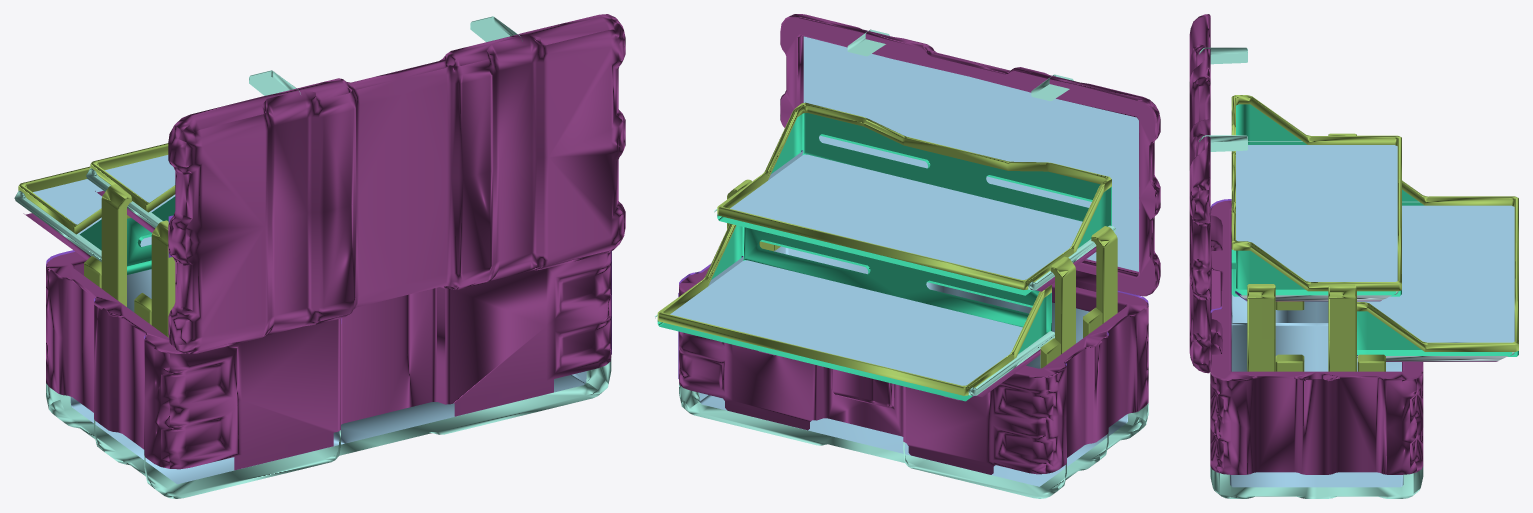
Rendered from box_plastic_4_weapon_050x100x0375_a.glb.
3 views of the same model, side by side, from view 1: azimuth 30°, elevation 25°; view 2: azimuth 150°, elevation 25°; view 3: azimuth 270°, elevation 25° (orthographic). The views are drawn at different scales.
Size of the model in its own units: 1 by 0.8281 by 0.7745.
